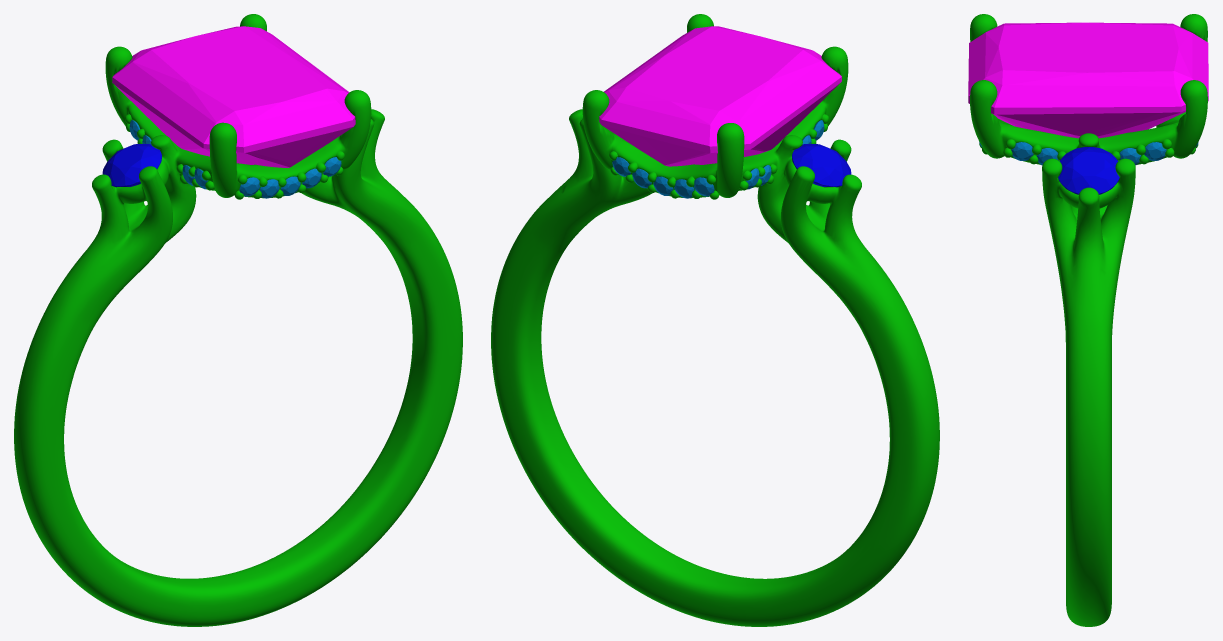
File: BE1D122_RA_200ct_RENDER.glb
3 views of the same model, side by side, from view 1: azimuth 30°, elevation 25°; view 2: azimuth 150°, elevation 25°; view 3: azimuth 270°, elevation 25° (orthographic).
Visible parts, largest first — view 1: Metal 01, CS_Diamond_Radiant, Diamond_Round_side; view 2: Metal 01, CS_Diamond_Radiant, Diamond_Round_side; view 3: Metal 01, CS_Diamond_Radiant, Diamond_Round_side.001.
Part boxes in pixels (box(x1,y1,x2,y2)): Metal 01: box(14, 14, 462, 626); CS_Diamond_Radiant: box(112, 26, 355, 167); Diamond_Round_side: box(102, 144, 161, 187); Metal 01: box(491, 14, 939, 626); CS_Diamond_Radiant: box(599, 26, 841, 166); Diamond_Round_side: box(792, 144, 851, 187); Metal 01: box(970, 14, 1207, 626); CS_Diamond_Radiant: box(968, 22, 1208, 138); Diamond_Round_side.001: box(1058, 147, 1119, 194).
Size of the model in its own units: 20.1 by 23.99 by 9.41.
